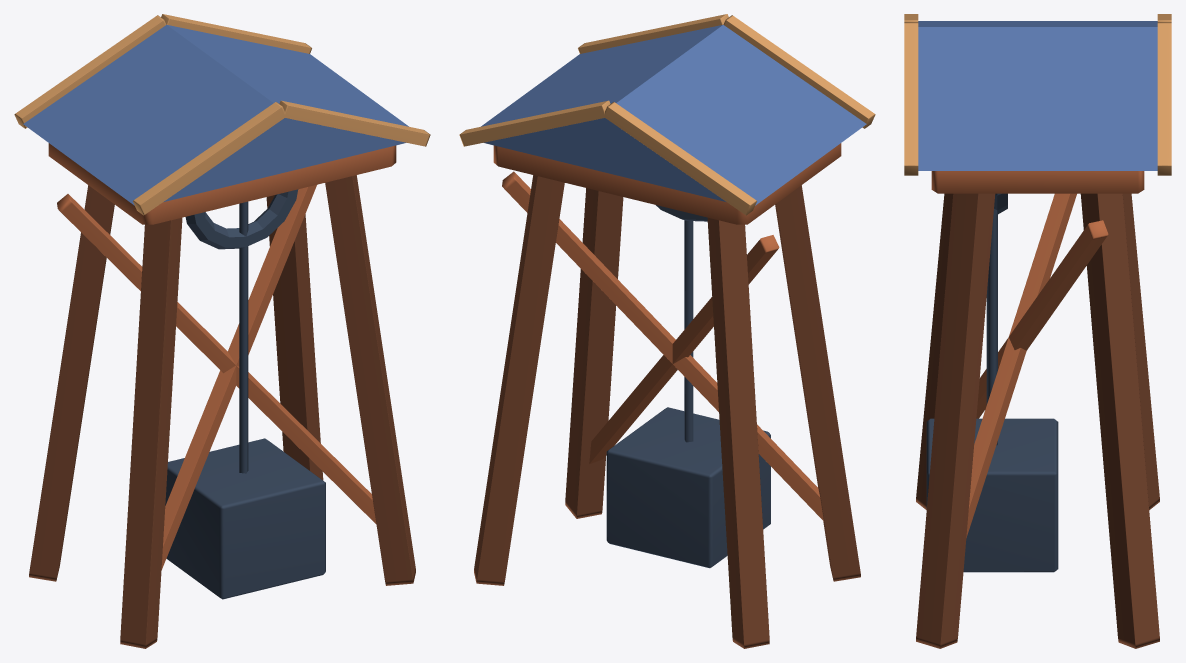
The model's file is mine_headframe.glb.
3 renders of one model, left to right at view 1: azimuth 30°, elevation 25°; view 2: azimuth 150°, elevation 25°; view 3: azimuth 270°, elevation 25°, orthographic. The views are drawn at different scales.
Parts seen in each view (by area): view 1: Pitched roof.009, Ore lift, A frame, A frame.002, A frame.001, A frame.003, Brace, Brace.001, Mine cap, Roof trim.036, Winding wheel, Lift cable (+3 smaller); view 2: Pitched roof.009, Ore lift, A frame.001, A frame.003, A frame, A frame.002, Brace, Mine cap, Brace.001, Roof trim.038, Roof trim.039, Roof trim.036 (+2 smaller); view 3: Pitched roof.009, A frame.002, A frame.003, Ore lift, Brace.001, Mine cap, Brace, A frame.001, A frame, Roof trim.037, Roof trim.039, Lift cable.
Boxes of the visible parts, <box> form: Pitched roof.009: <box>23,24,408,205</box>; Ore lift: <box>165,438,325,599</box>; A frame: <box>120,217,182,648</box>; A frame.002: <box>325,175,415,585</box>; A frame.001: <box>29,185,114,581</box>; A frame.003: <box>266,195,323,480</box>; Brace: <box>161,185,316,569</box>; Brace.001: <box>57,194,376,523</box>; Mine cap: <box>48,143,396,224</box>; Roof trim.036: <box>133,102,285,215</box>; Winding wheel: <box>185,189,298,249</box>; Lift cable: <box>239,201,248,473</box>; Pitched roof.009: <box>481,24,866,205</box>; Ore lift: <box>606,407,770,568</box>; A frame.001: <box>707,217,769,648</box>; A frame.003: <box>474,175,564,585</box>; A frame: <box>775,185,860,581</box>; A frame.002: <box>565,188,623,518</box>; Brace: <box>502,171,823,521</box>; Mine cap: <box>493,143,841,224</box>; Brace.001: <box>589,235,779,464</box>; Roof trim.038: <box>604,102,756,215</box>; Roof trim.039: <box>459,100,610,146</box>; Roof trim.036: <box>723,15,875,128</box>; Pitched roof.009: <box>918,21,1157,170</box>; A frame.002: <box>916,193,995,648</box>; A frame.003: <box>1080,193,1159,648</box>; Ore lift: <box>926,418,1058,572</box>; Brace.001: <box>966,193,1076,537</box>; Mine cap: <box>931,171,1144,193</box>; Brace: <box>976,220,1108,418</box>; A frame.001: <box>1122,193,1159,509</box>; A frame: <box>916,193,953,509</box>; Roof trim.037: <box>904,22,918,175</box>; Roof trim.039: <box>1157,22,1171,175</box>; Lift cable: <box>986,213,997,445</box>.
Bounding box in the file's own units: 3.61 × 6.03 × 2.64.
